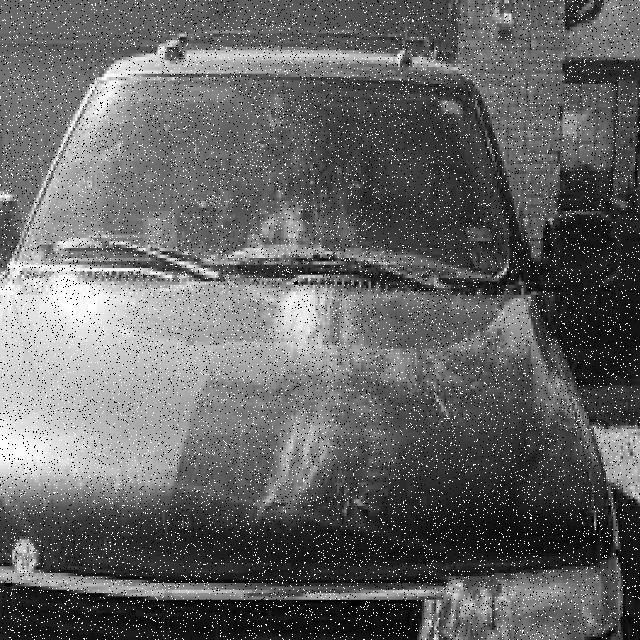bonnet-dent: (0, 275, 600, 610)
